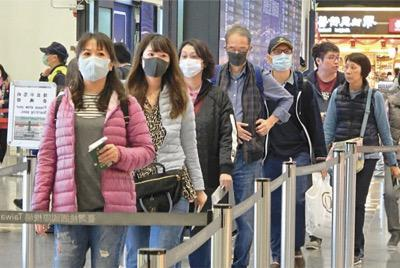with_mask: (77, 47, 109, 83), (141, 49, 170, 79), (179, 49, 203, 79), (271, 47, 293, 72), (225, 46, 249, 68), (41, 51, 53, 66)
without_mask: (343, 63, 361, 84), (325, 54, 341, 74)
